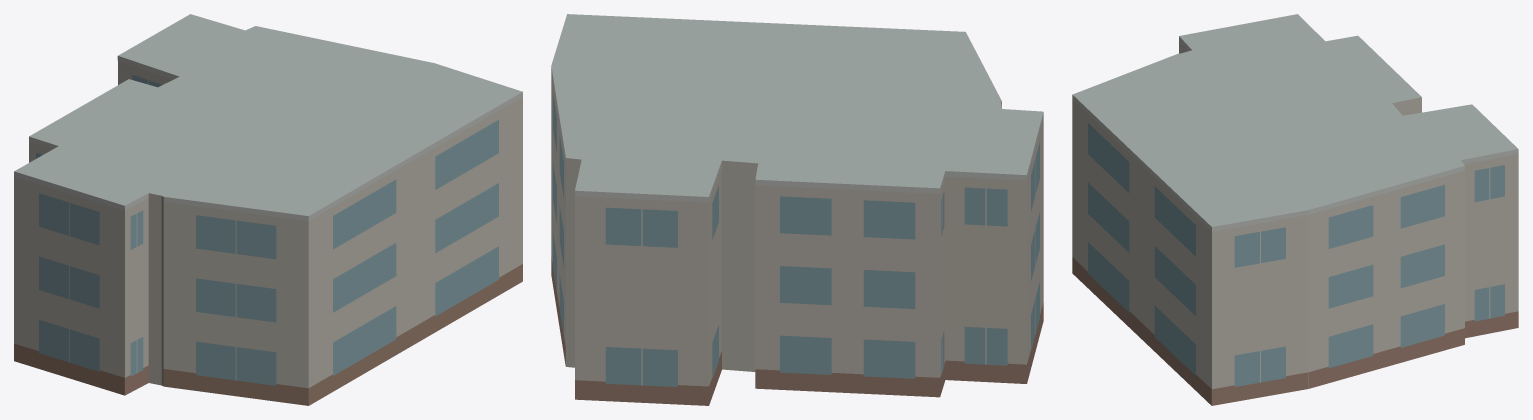
Rendered from survey-upis-32467881.glb.
3 views of the same model, side by side, from view 1: azimuth 30°, elevation 25°; view 2: azimuth 150°, elevation 25°; view 3: azimuth 270°, elevation 25° (orthographic). The views are drawn at different scales.
Parts seen in each view (by area): view 1: survey-upis-32467881.tmp; view 2: survey-upis-32467881.tmp; view 3: survey-upis-32467881.tmp.
Part boxes in pixels (x1,y1,x2,y2): survey-upis-32467881.tmp: (14, 14, 522, 405); survey-upis-32467881.tmp: (551, 14, 1043, 405); survey-upis-32467881.tmp: (1072, 14, 1518, 405).
Size of the model in its own units: 23.38 by 9.15 by 20.69.
